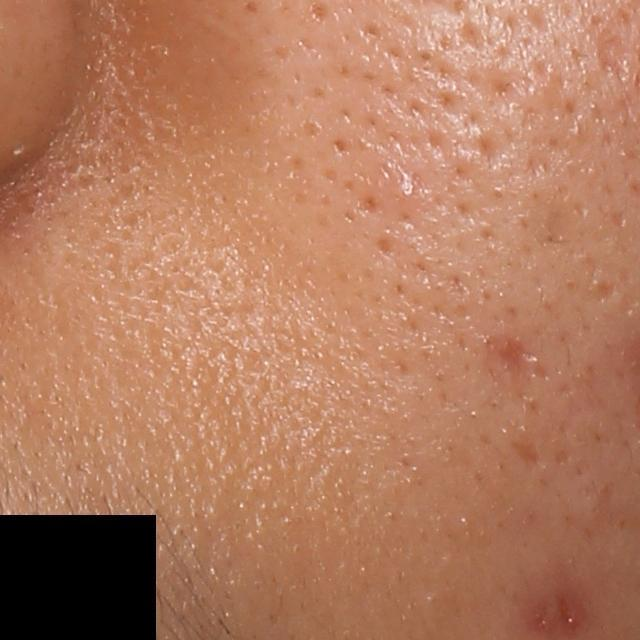atrophic_scar: (578, 12, 638, 86), (525, 185, 587, 256), (485, 335, 540, 397), (507, 440, 540, 468), (589, 280, 617, 298)
